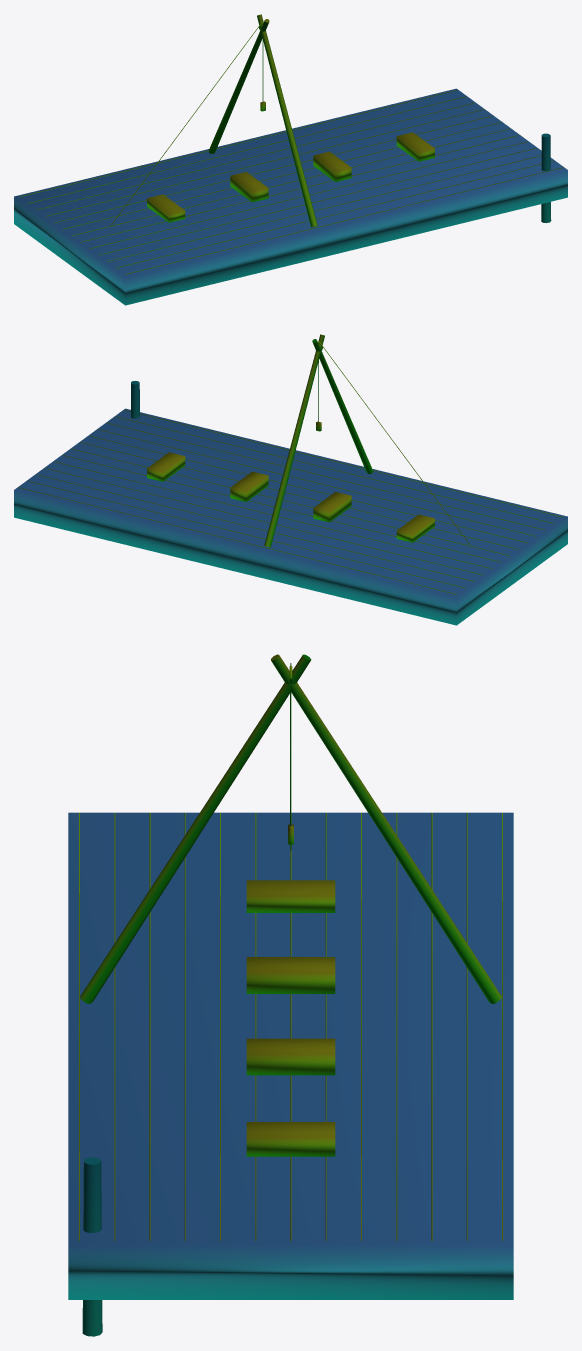
File: hm_drydock_berth.glb
3 views of the same model, one above another, from view 1: azimuth 30°, elevation 25°; view 2: azimuth 150°, elevation 25°; view 3: azimuth 270°, elevation 25° (orthographic). The views are drawn at different scales.
Visible parts, largest first — view 1: hm_drydock_berth; view 2: hm_drydock_berth; view 3: hm_drydock_berth.
Part boxes in pixels (<box>): hm_drydock_berth: <box>14,14,567,305</box>; hm_drydock_berth: <box>14,334,567,625</box>; hm_drydock_berth: <box>68,654,513,1336</box>.
Size of what is drawn, in the model's own units: 15.95 by 7.74 by 6.95.
